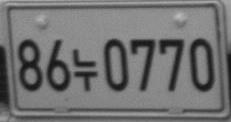0: (189, 37, 215, 92), (103, 38, 129, 91)
6: (46, 39, 70, 91)
7: (158, 37, 185, 91), (130, 38, 155, 91)
8: (16, 37, 43, 92)
누: (72, 47, 98, 91)
